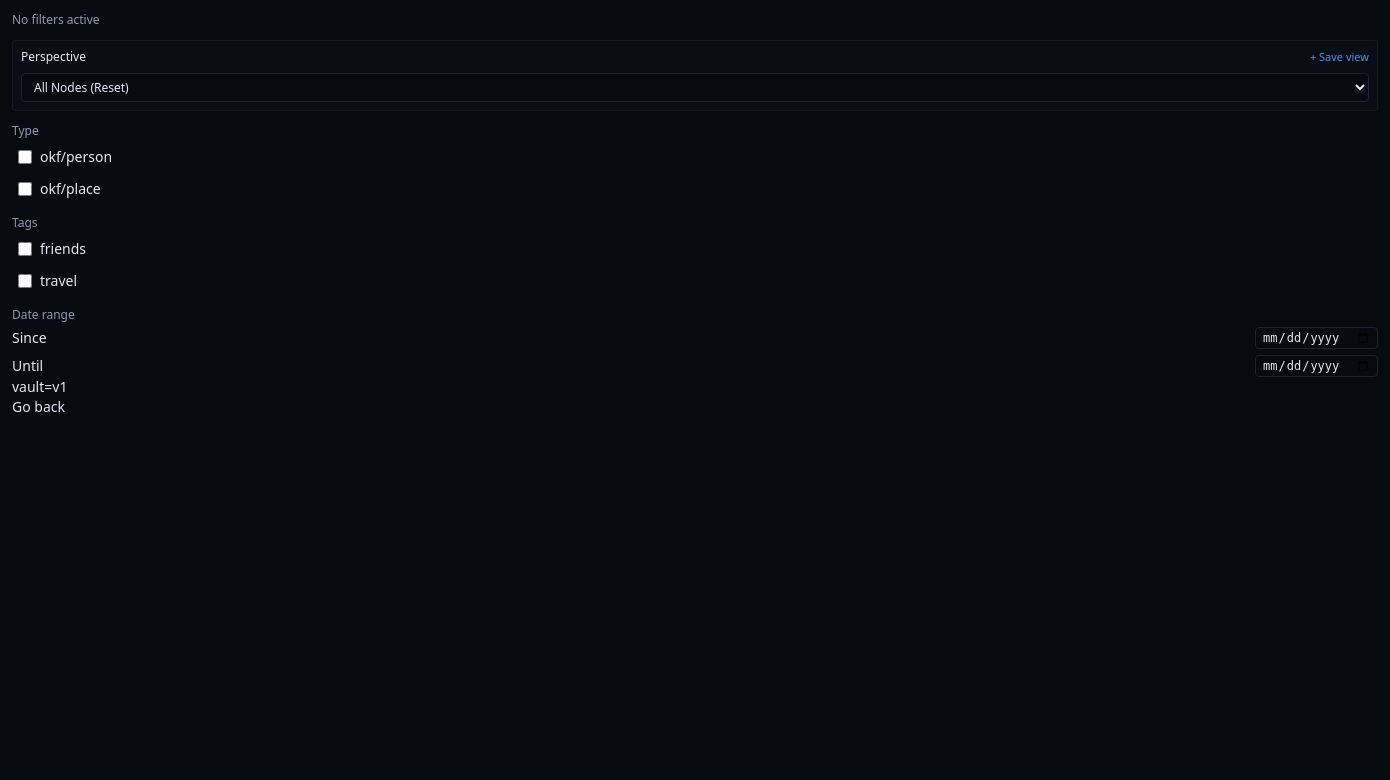
GraphFilters › applies built-in presets (Architecture & Specs, Security & Auth) to search params
Select Architecture & Specs
Select "Architecture & Specs" in the dropdown named "Graph perspective". click: (695, 88)
box: [21,73,1369,102]
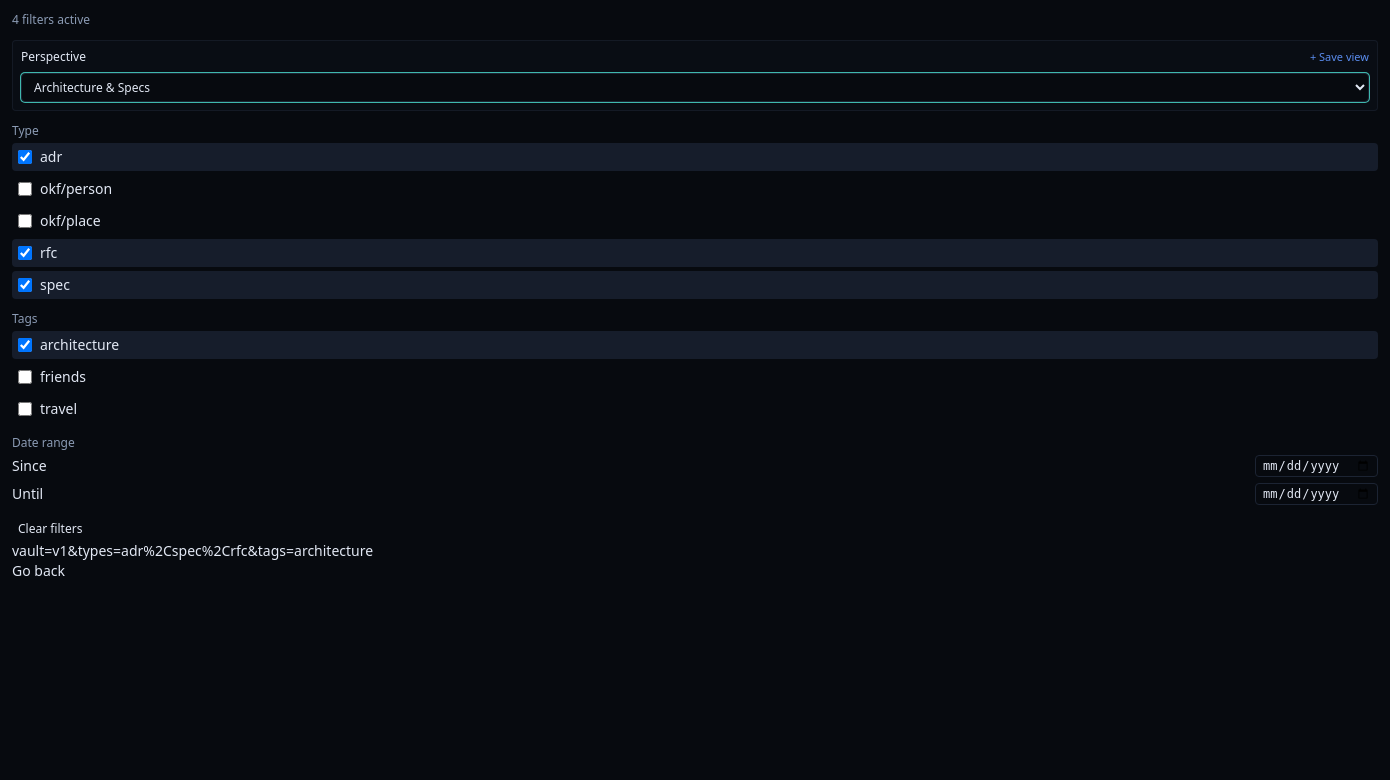
Expected: the text with test id "params" shows "types=adr%2Cspec%2Crfc", [12,541,373,560]
Expected: the text with test id "params" shows "tags=architecture", [12,541,373,560]
Select Security & Auth
Select "Security & Auth" in the dropdown named "Graph perspective". click: (695, 88)
box: [21,73,1369,102]
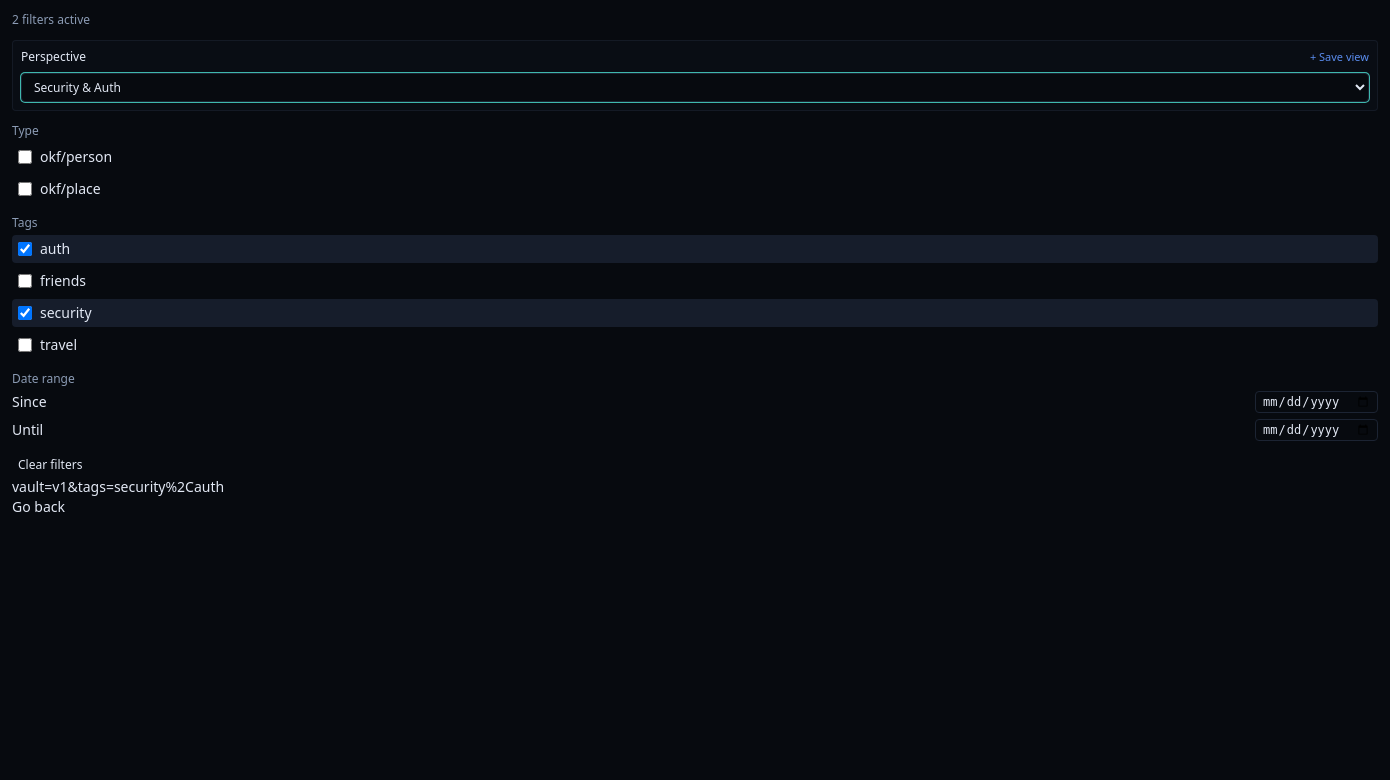
Expected: the text with test id "params" no longer shows "types="
Expected: the text with test id "params" shows "tags=security%2Cauth", [12,477,224,496]
Reset with All Nodes
Select "All Nodes (Reset)" in the dropdown named "Graph perspective". click: (695, 88)
box: [21,73,1369,102]
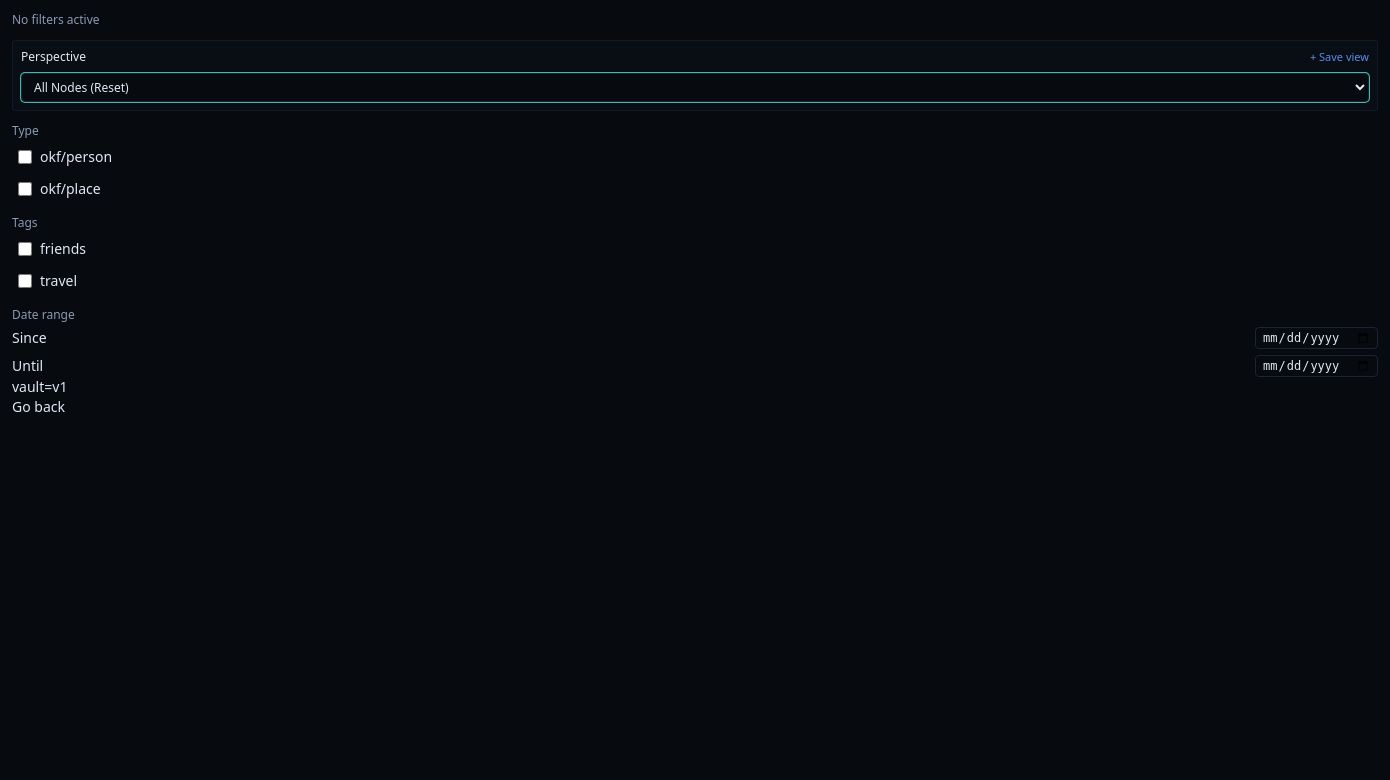
Expected: the text with test id "params" reads "vault=v1", [12,377,67,396]
